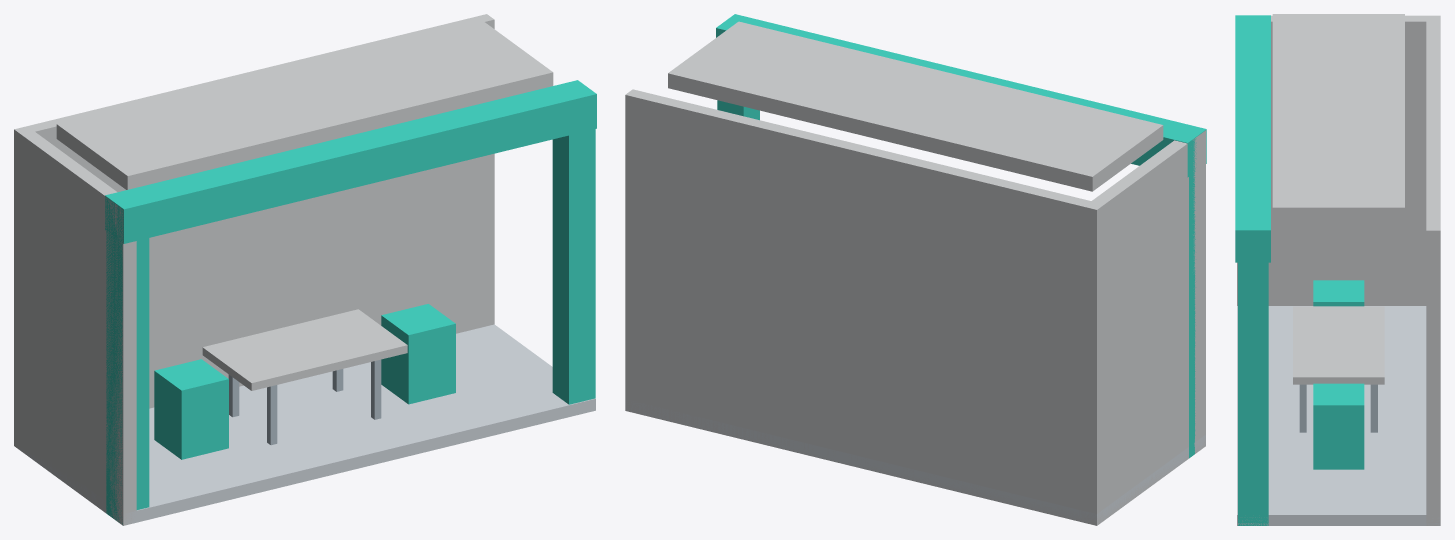
The picture shows the model from 3 angles, left to right: view 1: azimuth 30°, elevation 25°; view 2: azimuth 150°, elevation 25°; view 3: azimuth 270°, elevation 25°; orthographic projection. The views are drawn at different scales.
Visible parts, largest first — view 1: Exhibition Booth Concept; view 2: Exhibition Booth Concept; view 3: Exhibition Booth Concept.
Part boxes in pixels (<box>): Exhibition Booth Concept: <box>14,14,596,525</box>; Exhibition Booth Concept: <box>625,14,1206,525</box>; Exhibition Booth Concept: <box>1235,14,1440,525</box>.
Bounding box in the file's own units: 5 × 3.34 × 2.01.
